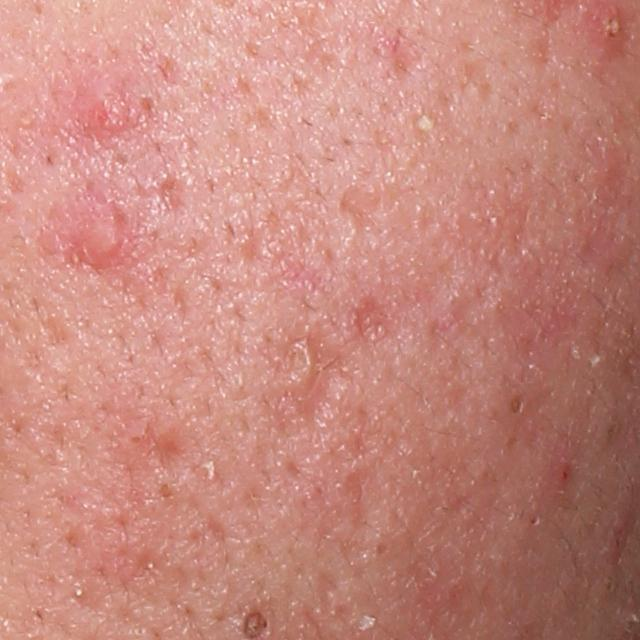atrophic_scar: (291, 336, 366, 443), (156, 411, 204, 483), (340, 460, 378, 533), (341, 185, 386, 234), (350, 292, 394, 342)
comedo: (506, 395, 528, 418)
papule: (68, 202, 131, 268), (81, 86, 136, 136), (582, 4, 630, 54), (554, 465, 573, 485)
pustule: (404, 105, 439, 142)
